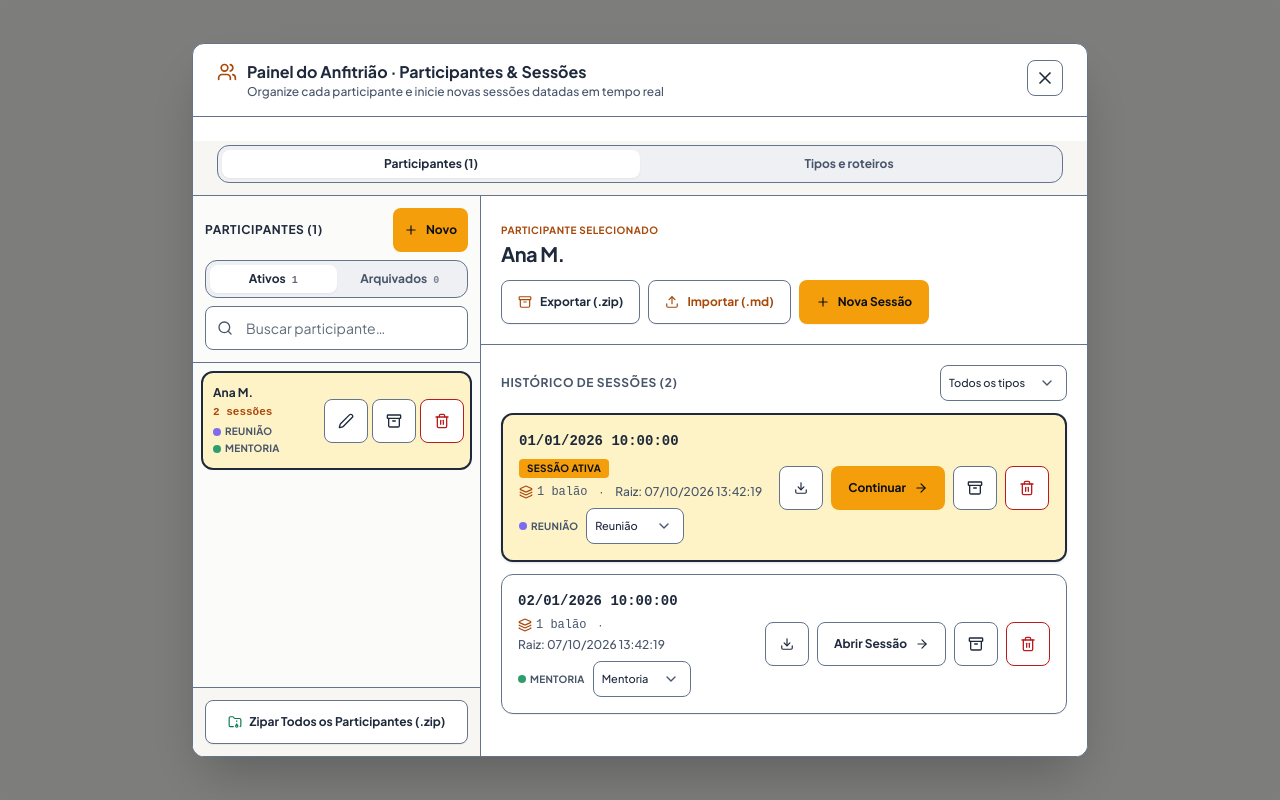
Test: AdminClientManager modality wiring › "Nova Sessão" opens the picker instead of creating blindly
Click the button "Nova Sessão": [864, 302] box [799, 280, 929, 324]
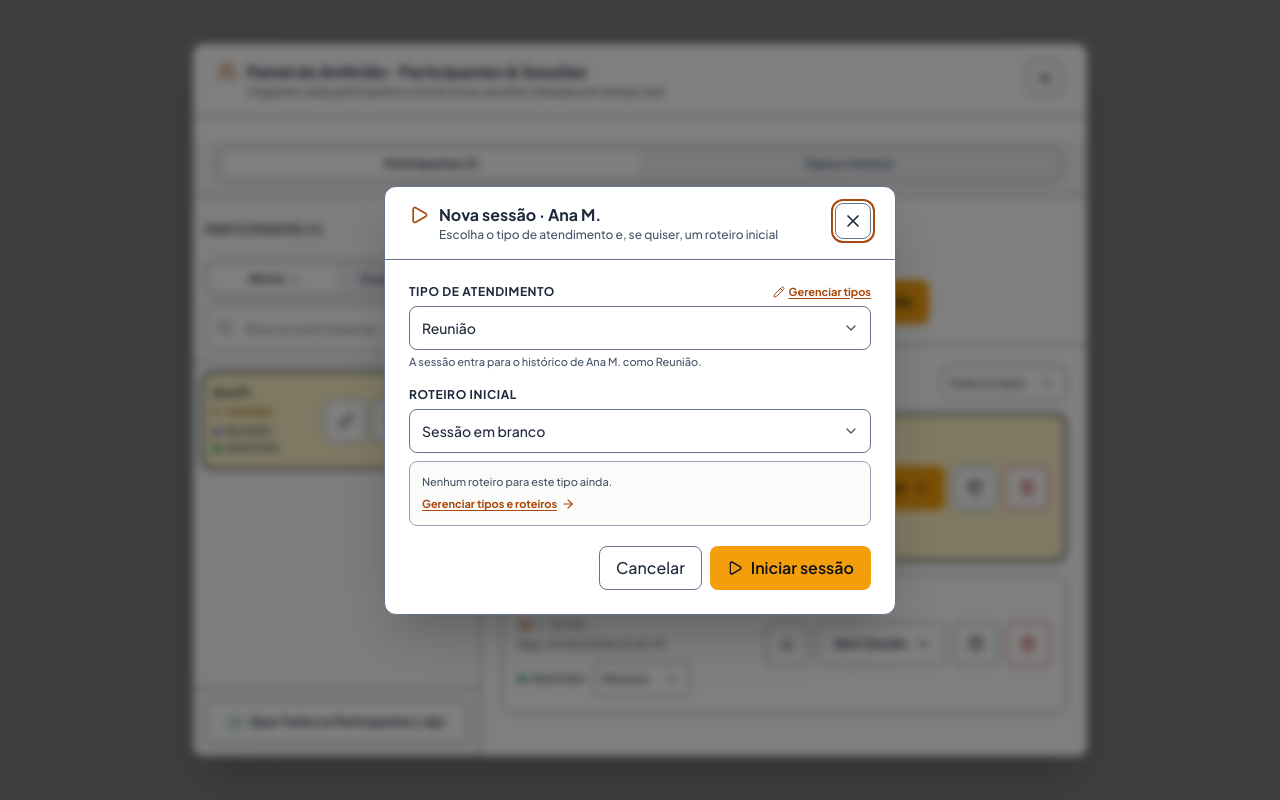
Now the heading "Nova sessão · Ana M." is shown, box [439, 204, 601, 224]
